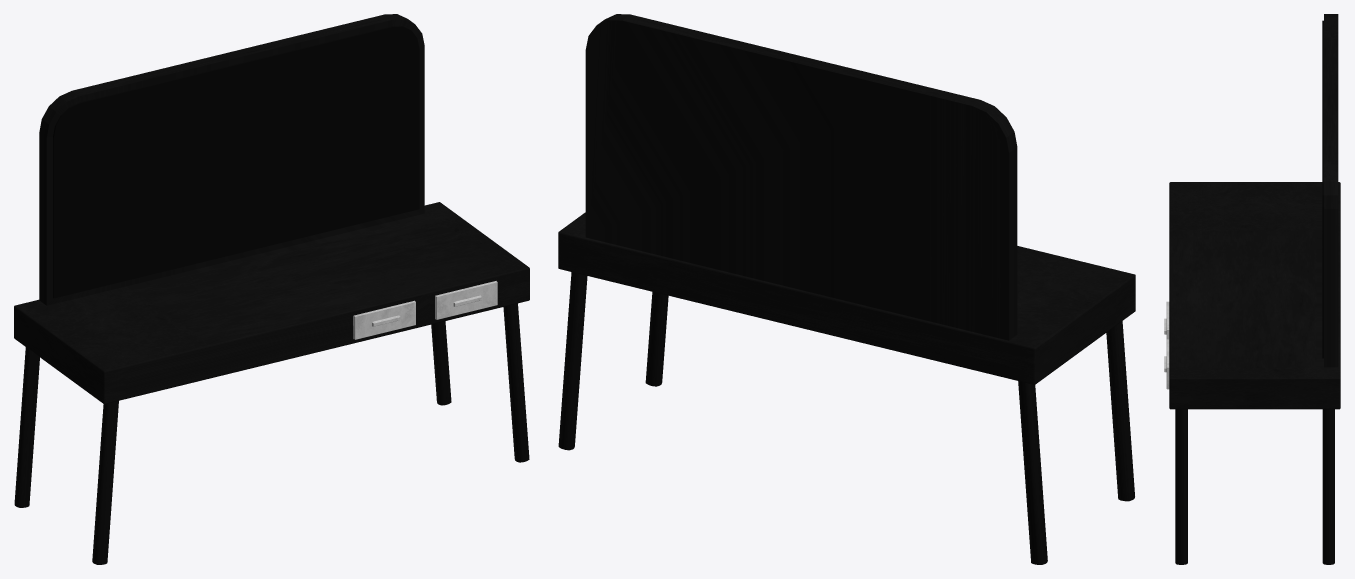
The model's file is dressingtable.fbx.
The picture shows the model from 3 angles, left to right: view 1: azimuth 30°, elevation 25°; view 2: azimuth 150°, elevation 25°; view 3: azimuth 270°, elevation 25°; orthographic projection. The views are drawn at different scales.
Parts seen in each view (by area): view 1: dressingtable; view 2: dressingtable; view 3: dressingtable.
Boxes of the visible parts, <box> form: dressingtable: <box>14,14,529,564</box>; dressingtable: <box>558,14,1135,564</box>; dressingtable: <box>1164,14,1340,564</box>.
Size of the model in its own units: 0.0709 by 0.062 by 0.0263.
Materials: 3 (2 with a texture image).
